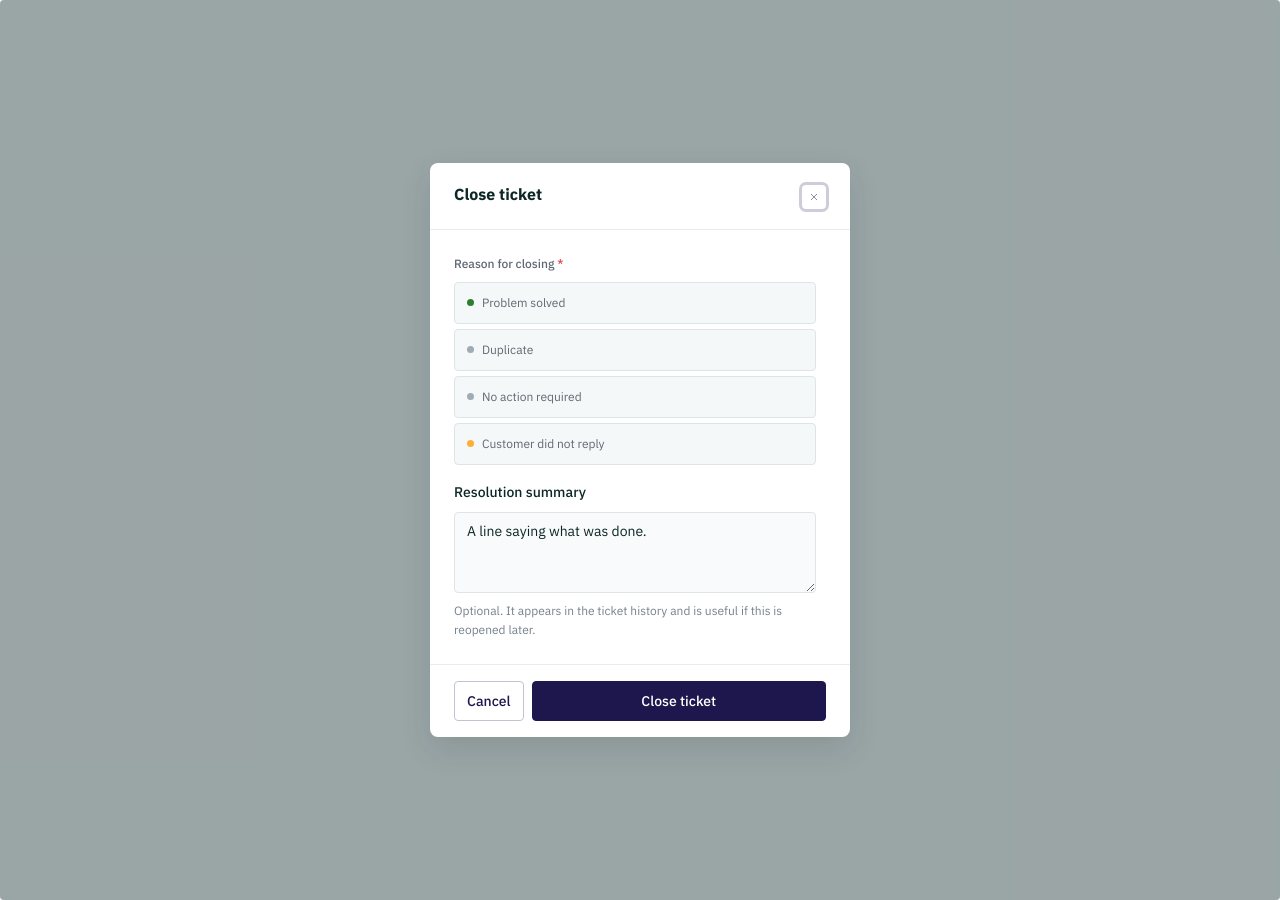
Test: AC-20 — confirming with no reason reports it and sends nothing › shows the inline error
Click the button "Close ticket": click(679, 701) [532,681,826,721]
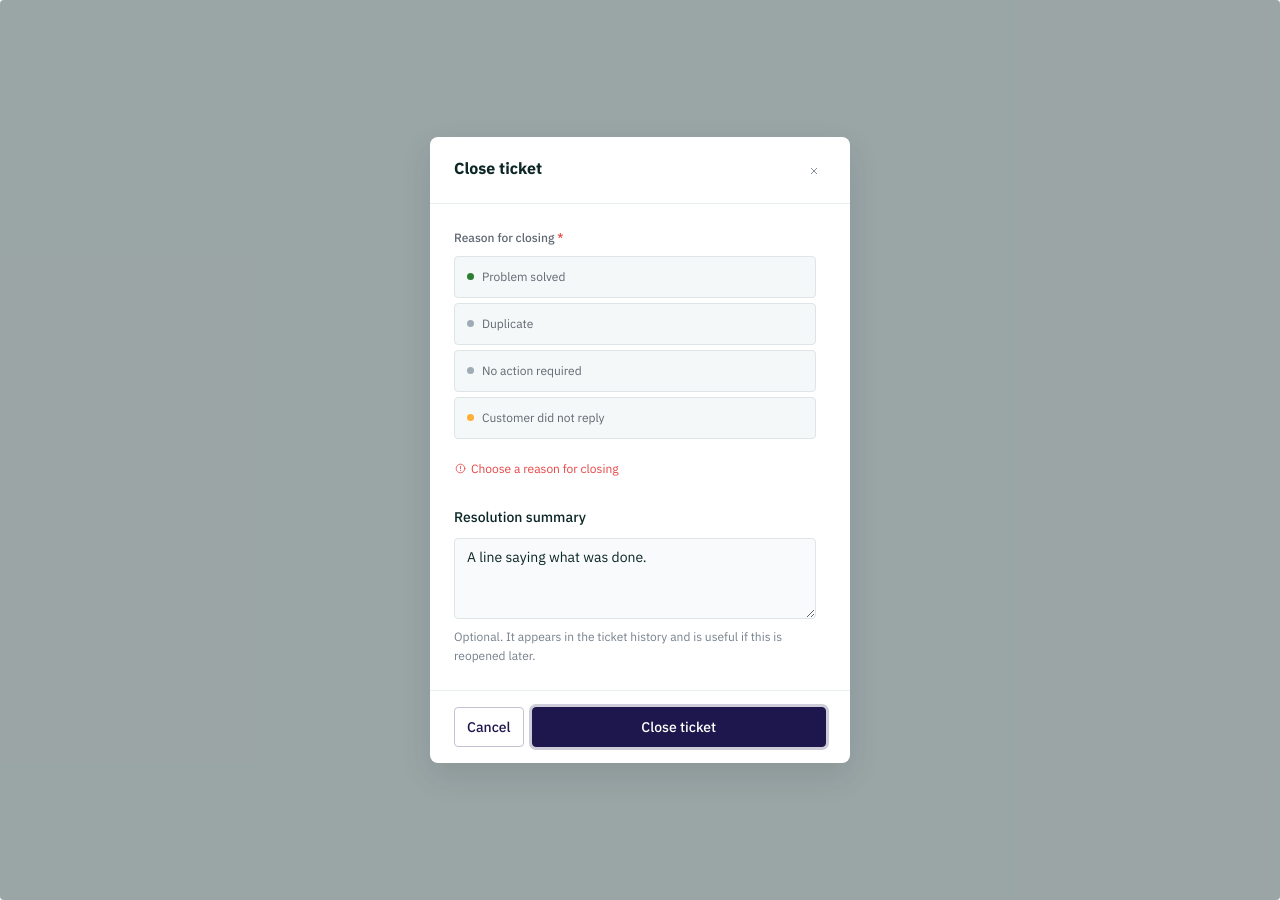
Check: the message reads "Choose a reason for closing", box [471,461,619,476]
